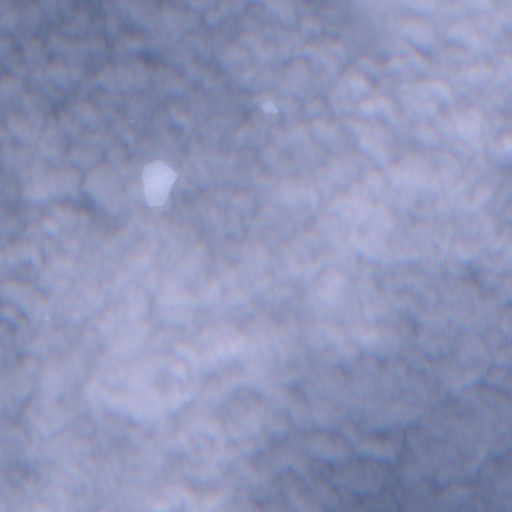Iceberg: (143, 161, 176, 205), (261, 101, 277, 113), (131, 121, 132, 122)
